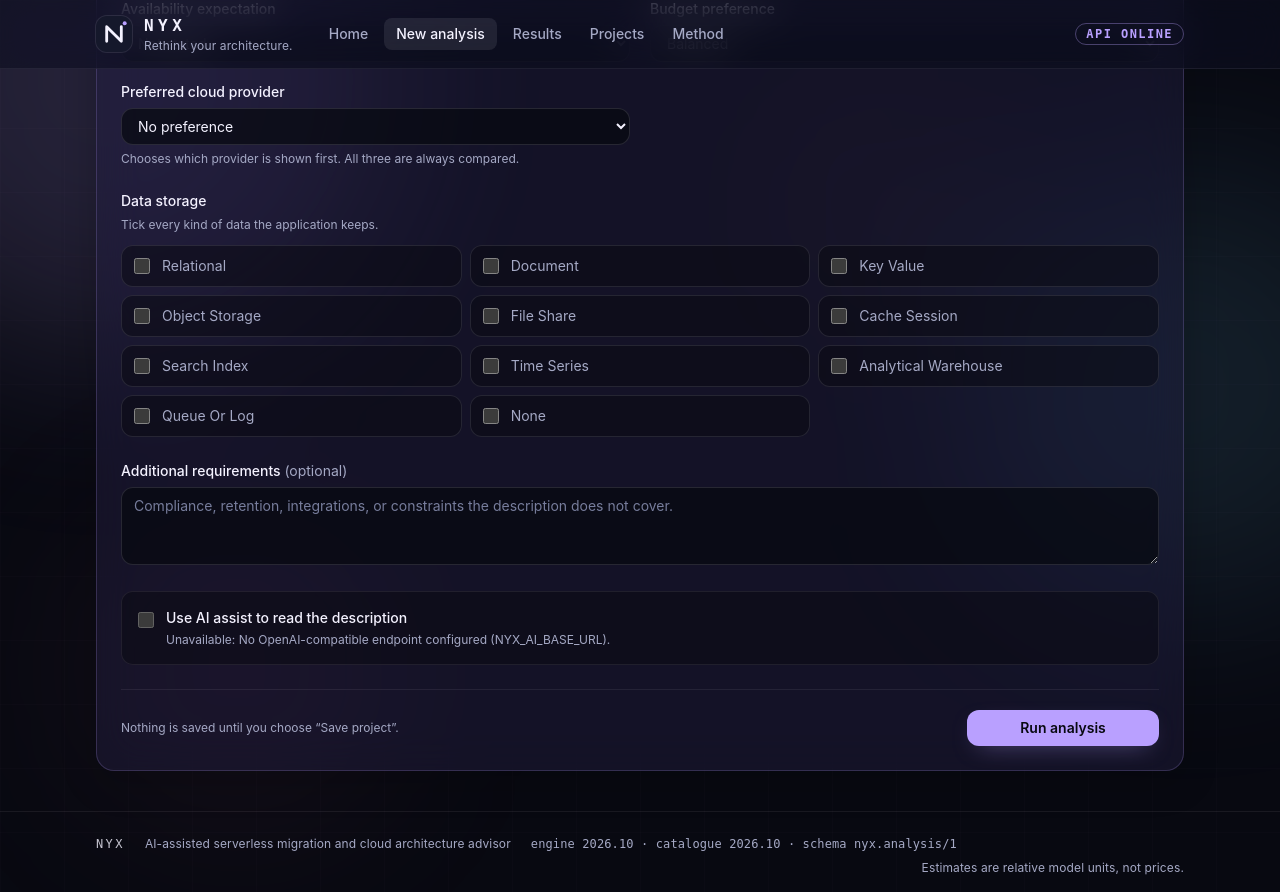
Test: analysis workflow › does not send an obviously invalid form, and focuses the first problem
(page scrolled)
Click the button "Run analysis": (1063, 728) [967, 710, 1159, 746]
(page scrolled)
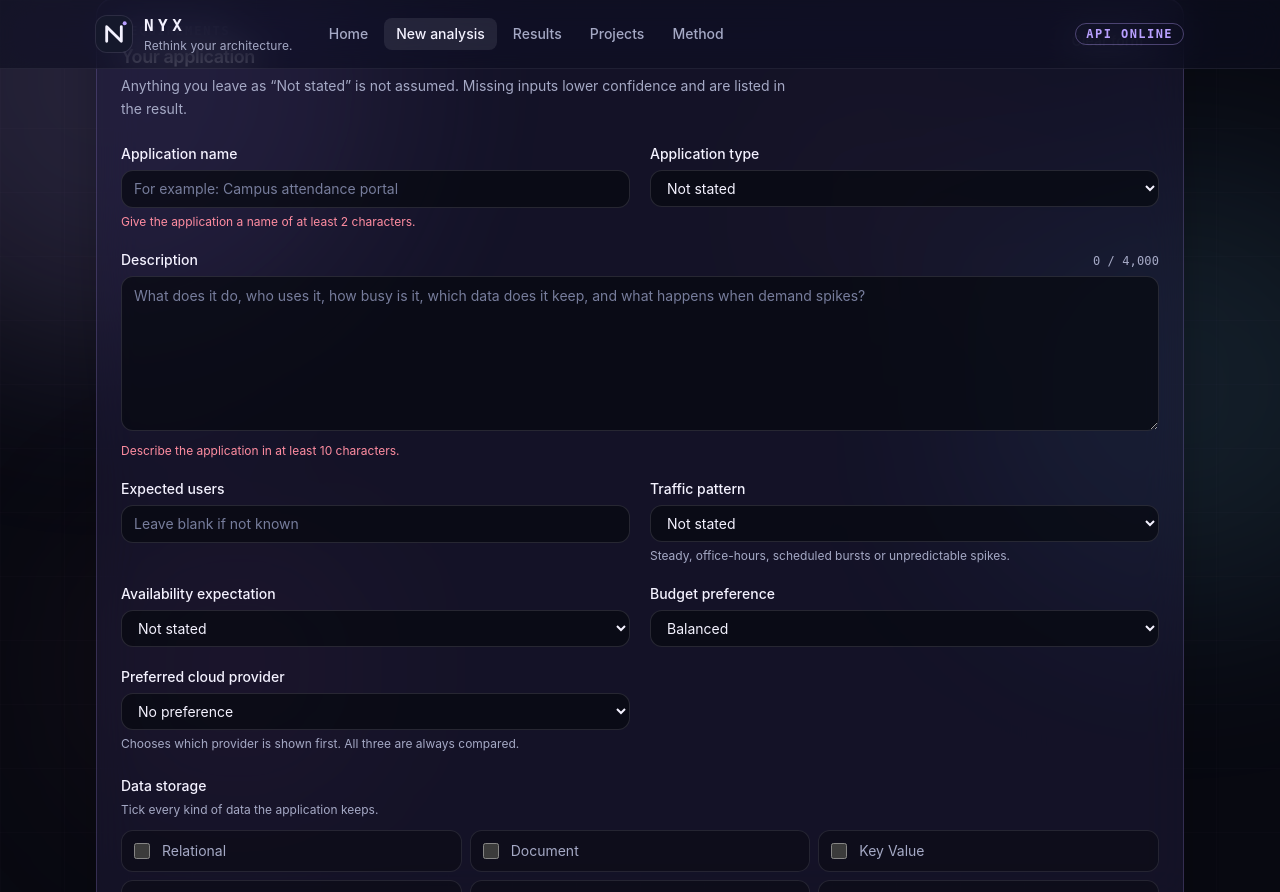
Expected: the text "Give the application a name of at least 2 characters." is shown, [121, 214, 416, 229]
Expected: the text "Describe the application in at least 10 characters." is shown, [121, 443, 400, 458]
